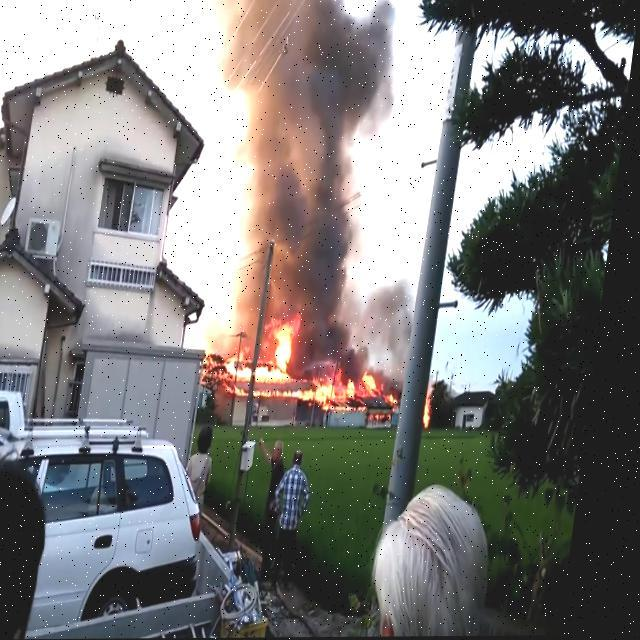Fire: (210, 326, 306, 386), (242, 382, 391, 408), (434, 396, 444, 426), (398, 391, 412, 408)
